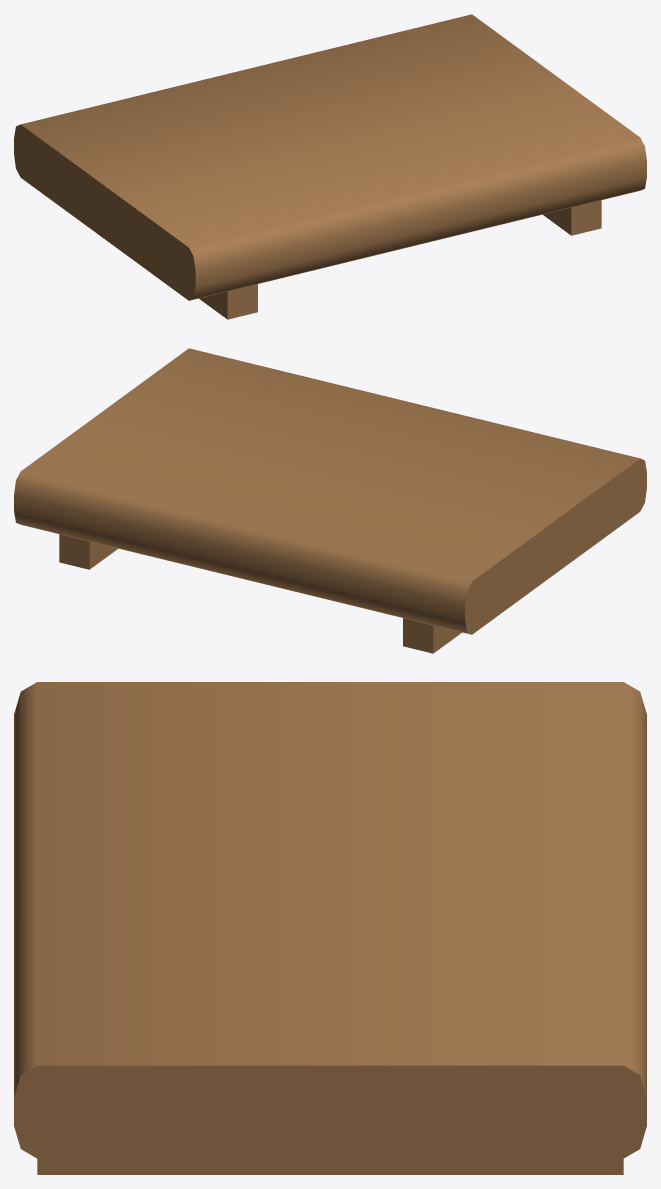
File: Environment_WoodenBoard.fbx
3 renders of one model, top to bottom at view 1: azimuth 30°, elevation 25°; view 2: azimuth 150°, elevation 25°; view 3: azimuth 270°, elevation 25°, orthographic. The views are drawn at different scales.
Parts seen in each view (by area): view 1: Environment_WoodenBoard; view 2: Environment_WoodenBoard; view 3: Environment_WoodenBoard.
Boxes of the visible parts, x1,y1,x2,y2 form: Environment_WoodenBoard: [14, 14, 646, 319]; Environment_WoodenBoard: [14, 348, 646, 653]; Environment_WoodenBoard: [14, 682, 646, 1174].
Size of the model in its own units: 82.54 by 14.24 by 57.53.
